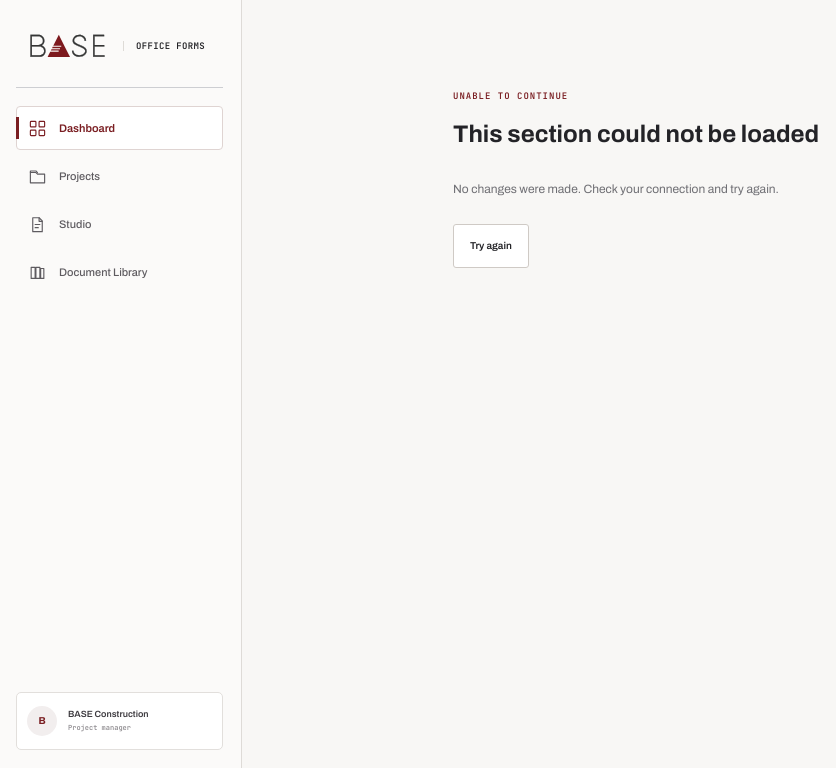
Scenario: Compatibility-module loading failure handling › shows the shared error surface when the feature factory import rejects, and recovers on retry
Expected: the heading "This section could not be loaded" is shown, left=453, top=121, right=819, bottom=147
Step 1. Click the button "Try again" → (491, 246), box left=453, top=224, right=529, bottom=268
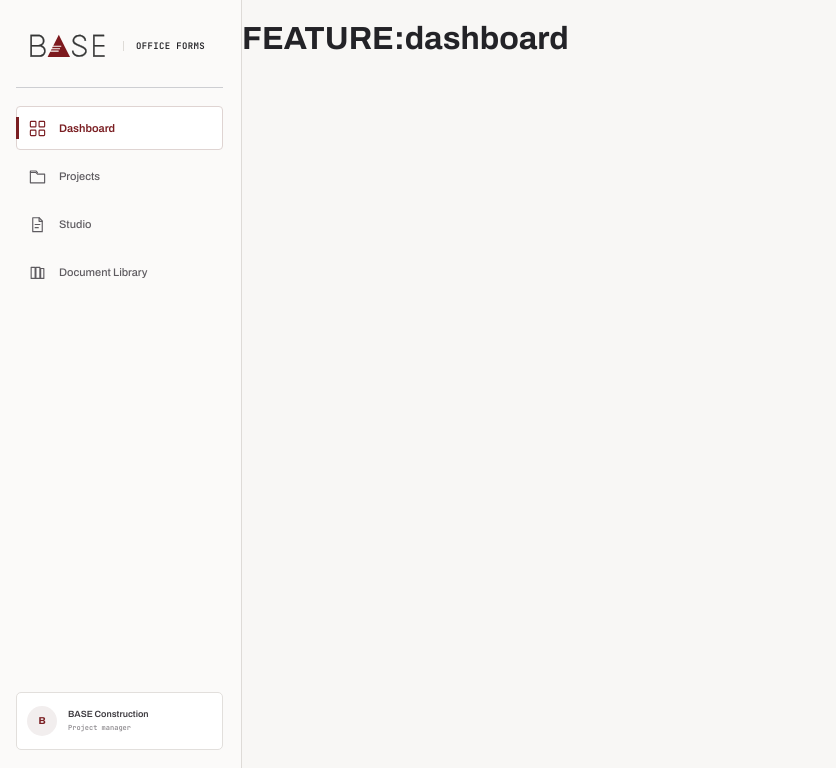
Now the heading "FEATURE:dashboard" is shown, box left=242, top=21, right=569, bottom=56
